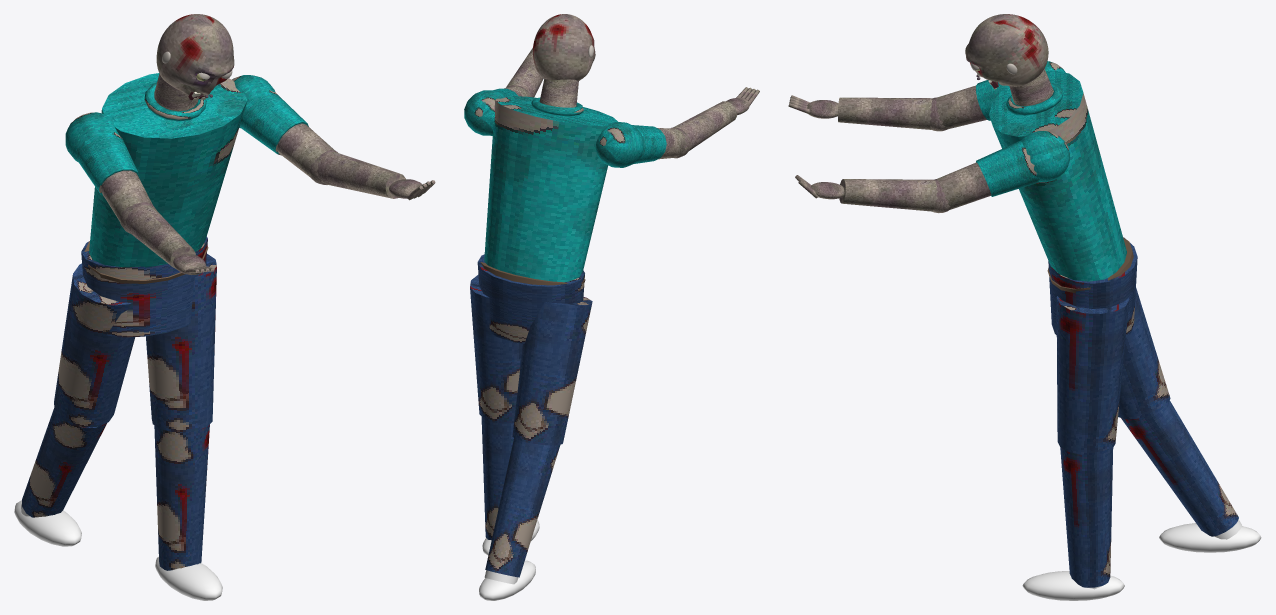
Rendered from Zombie_092.glb.
3 renders of one model, left to right at view 1: azimuth 30°, elevation 25°; view 2: azimuth 150°, elevation 25°; view 3: azimuth 270°, elevation 25°, orthographic. The views are drawn at different scales.
Parts seen in each view (by area): view 1: Zombie_092, object 16, object 10, object 3; view 2: Zombie_092, object 16, object 3, object 10; view 3: Zombie_092, object 16, object 10, object 3.
Part boxes in pixels (left/top/right/bottom): Zombie_092: left=14, top=73, right=335, bottom=600; object 16: left=156, top=14, right=234, bottom=96; object 10: left=316, top=151, right=405, bottom=198; object 3: left=125, top=205, right=195, bottom=268; Zombie_092: left=464, top=79, right=686, bottom=600; object 16: left=533, top=14, right=595, bottom=80; object 3: left=673, top=101, right=736, bottom=150; object 10: left=506, top=48, right=543, bottom=97; Zombie_092: left=935, top=61, right=1261, bottom=600; object 16: left=965, top=14, right=1048, bottom=86; object 10: left=839, top=179, right=937, bottom=211; object 3: left=838, top=97, right=932, bottom=129.
Size of the model in its own units: 0.7585 by 1.78 by 1.34.
15 materials, 5 textured.
